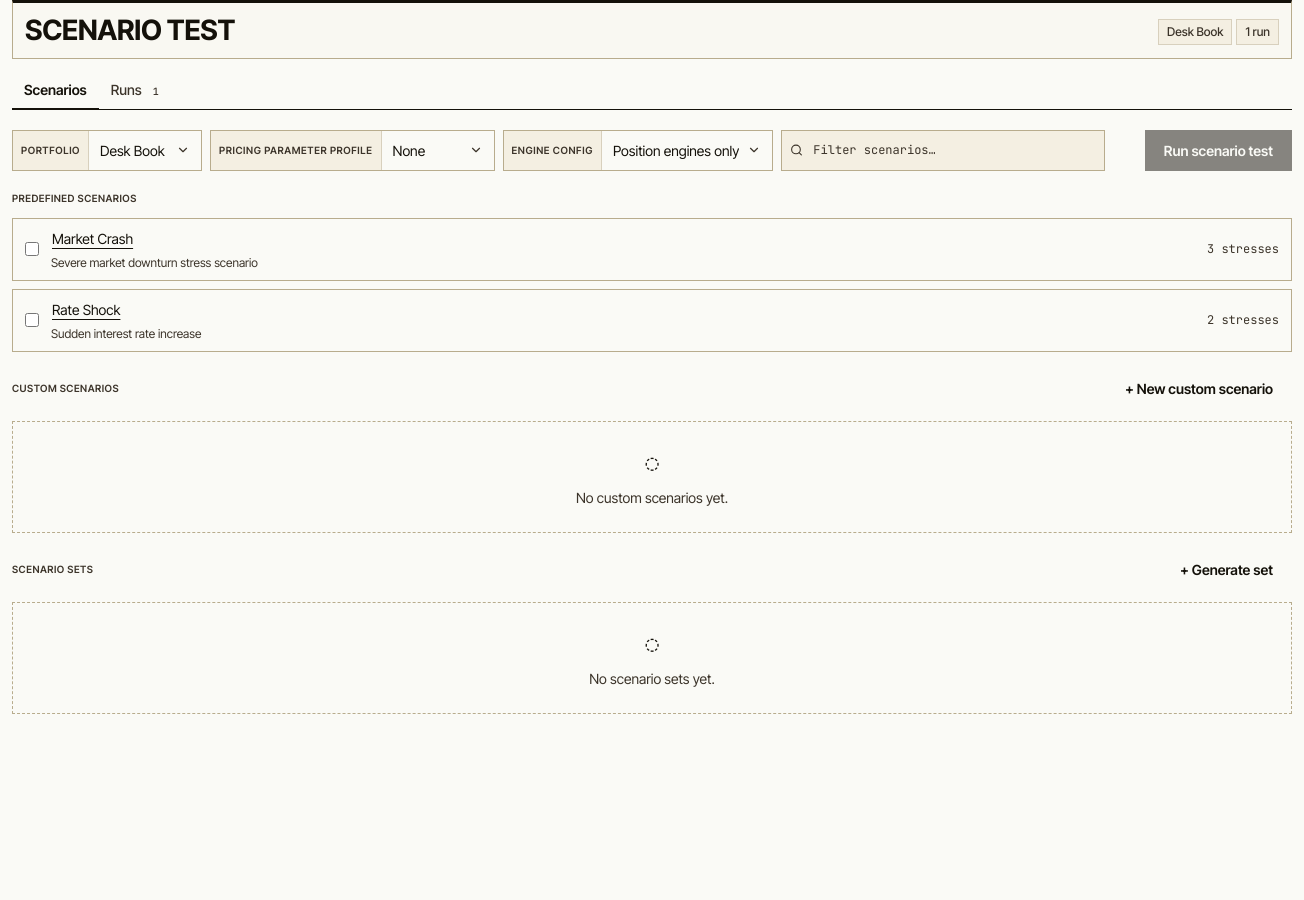
ScenarioTestLive › loads run history when a portfolio is selected
The width and height of the screenshot is (1304, 900).
Expected: the button "Market Crash" is shown, [51,227,1199,250]
Click the tab "Runs 1" at (135, 90), box [99,71,171,110]
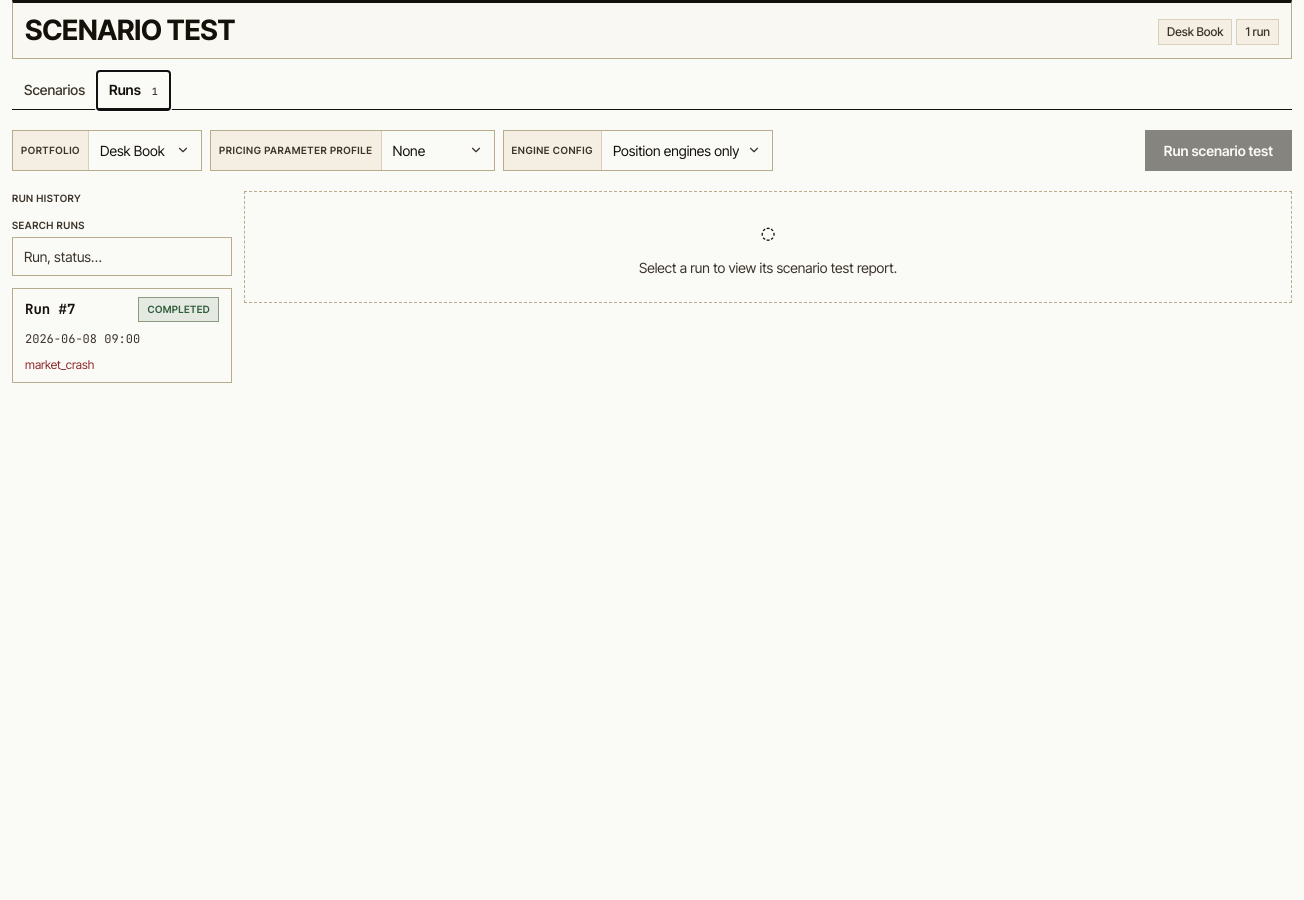
Result: the text "Run #7" is shown at [25,300,75,318]
Result: the text "completed" is shown at [138,297,219,322]
